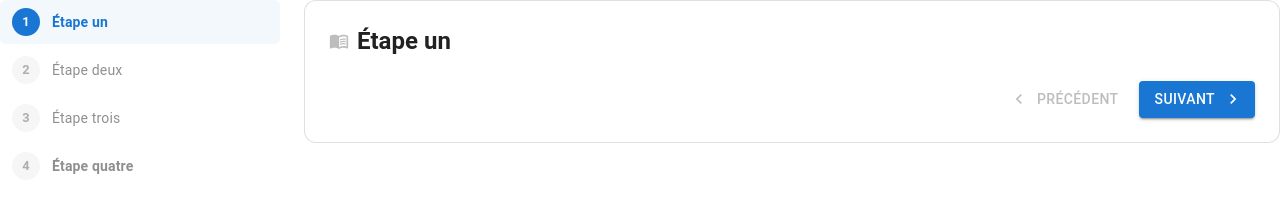
Test: ModuleStepper › reprise de progression › ne redescend jamais la progression sauvegardée en revenant en arrière
The width and height of the screenshot is (1280, 212).
Click the button "Suivant". click: coordinates (1197, 99)
box: [1138,81,1255,118]
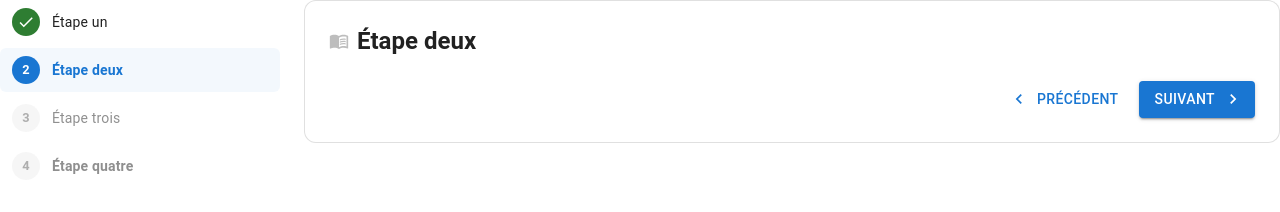
Click the button "Suivant". click: coordinates (1197, 99)
box: [1138,81,1255,118]
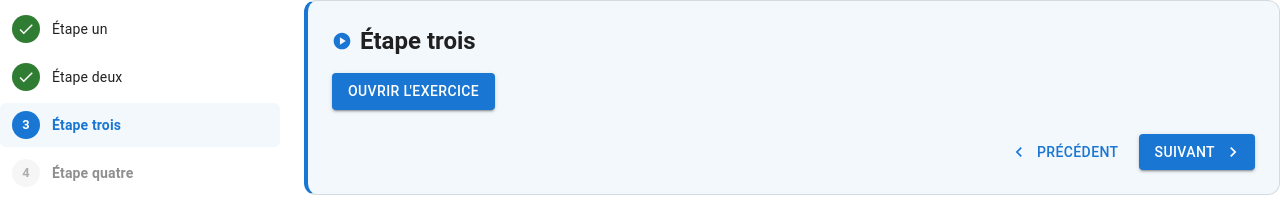
Click the button "Précédent". click: coordinates (1066, 152)
box: [1005,134,1126,170]
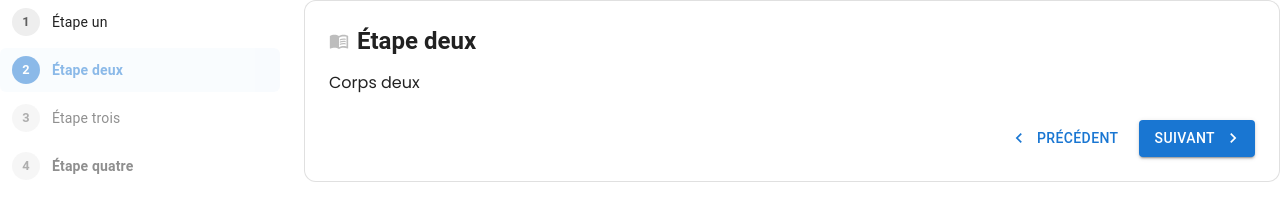
Expected: the text "Corps deux" is shown, [329,71,420,94]
